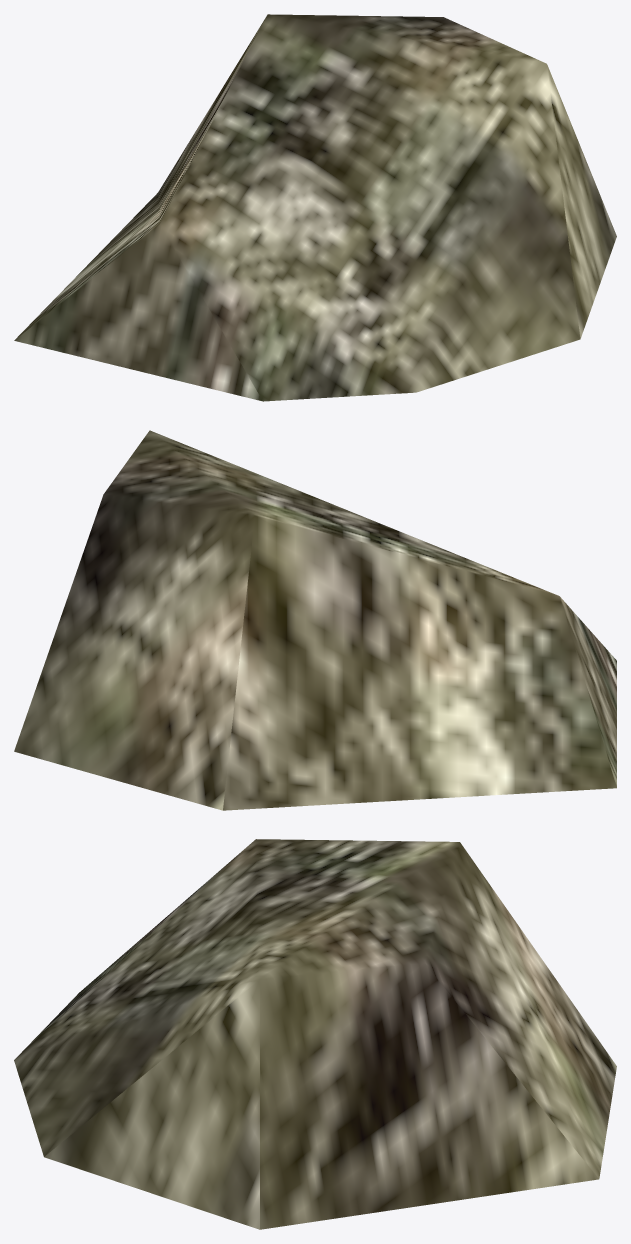
File: stone_granite_sm_b.glb
3 views of the same model, one above another, from view 1: azimuth 30°, elevation 25°; view 2: azimuth 150°, elevation 25°; view 3: azimuth 270°, elevation 25° (orthographic). The views are drawn at different scales.
Parts seen in each view (by area): view 1: stone_granite_sm_b; view 2: stone_granite_sm_b; view 3: stone_granite_sm_b.
Boxes of the visible parts, x1=… form: stone_granite_sm_b: x1=14, y1=14, x2=616, y2=401; stone_granite_sm_b: x1=14, y1=430, x2=616, y2=810; stone_granite_sm_b: x1=14, y1=839, x2=616, y2=1229.
Size of the model in its own units: 1.34 by 0.5021 by 1.12.
1 material, 1 textured.
